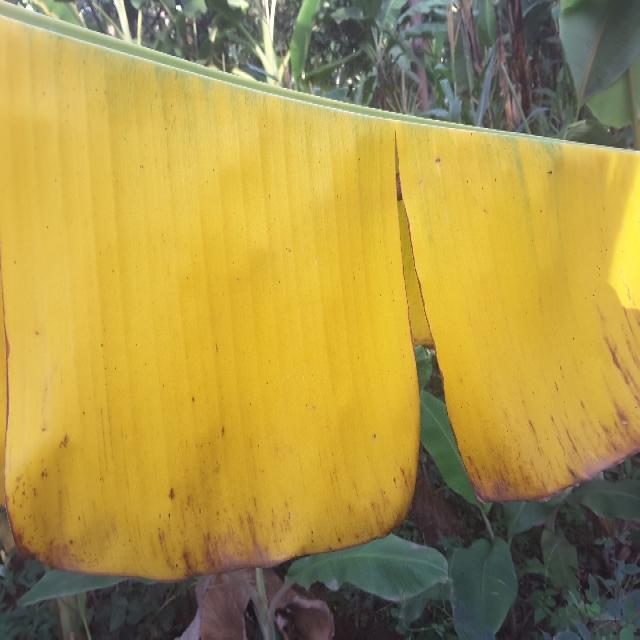Cordana: (0, 2, 640, 548)
